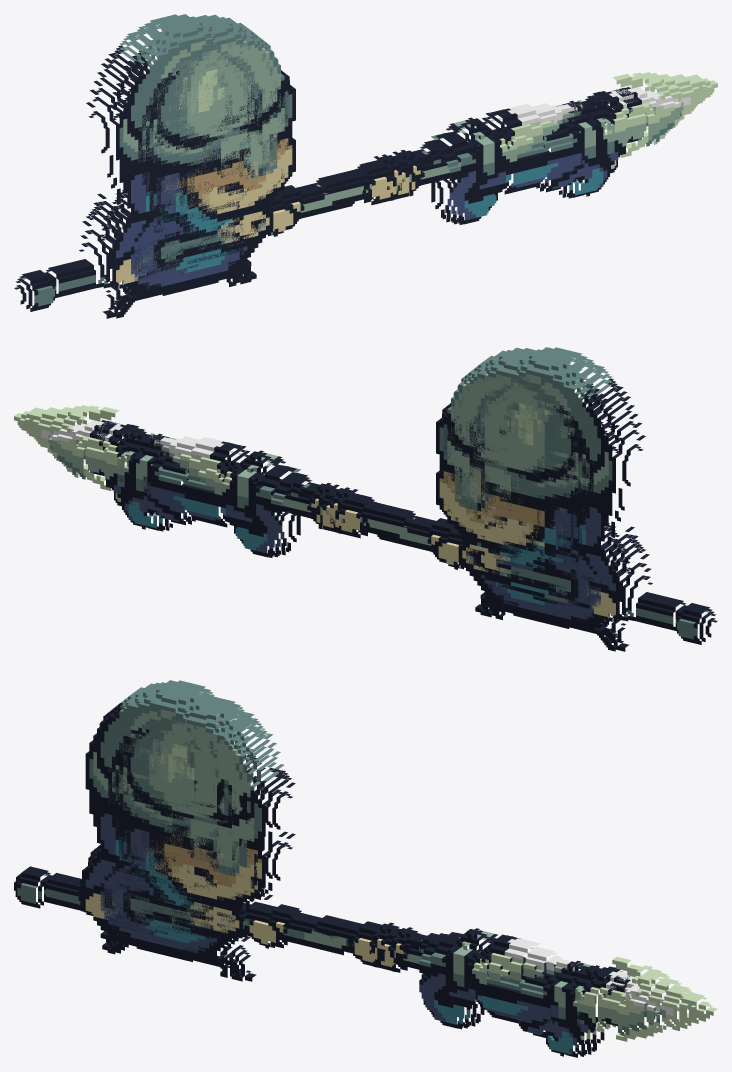
The model's file is lanceiro_golpe_lado.glb.
The picture shows the model from 3 angles, top to bottom: view 1: azimuth 30°, elevation 25°; view 2: azimuth 150°, elevation 25°; view 3: azimuth 330°, elevation 25°; orthographic projection.
Parts seen in each view (by area): view 1: q0, q2, q1; view 2: q0, q2, q1; view 3: q0, q2, q1.
Part boxes in pixels (<box>): q0: <box>100,14,717,318</box>; q2: <box>14,14,582,318</box>; q1: <box>110,17,717,292</box>; q0: <box>14,347,631,651</box>; q2: <box>149,347,717,651</box>; q1: <box>14,350,621,624</box>; q0: <box>100,697,717,1041</box>; q2: <box>14,680,581,1029</box>; q1: <box>101,695,712,1057</box>.
Bounding box in the file's own units: 186 × 70 × 14.
Materials: 1 (1 with a texture image).
